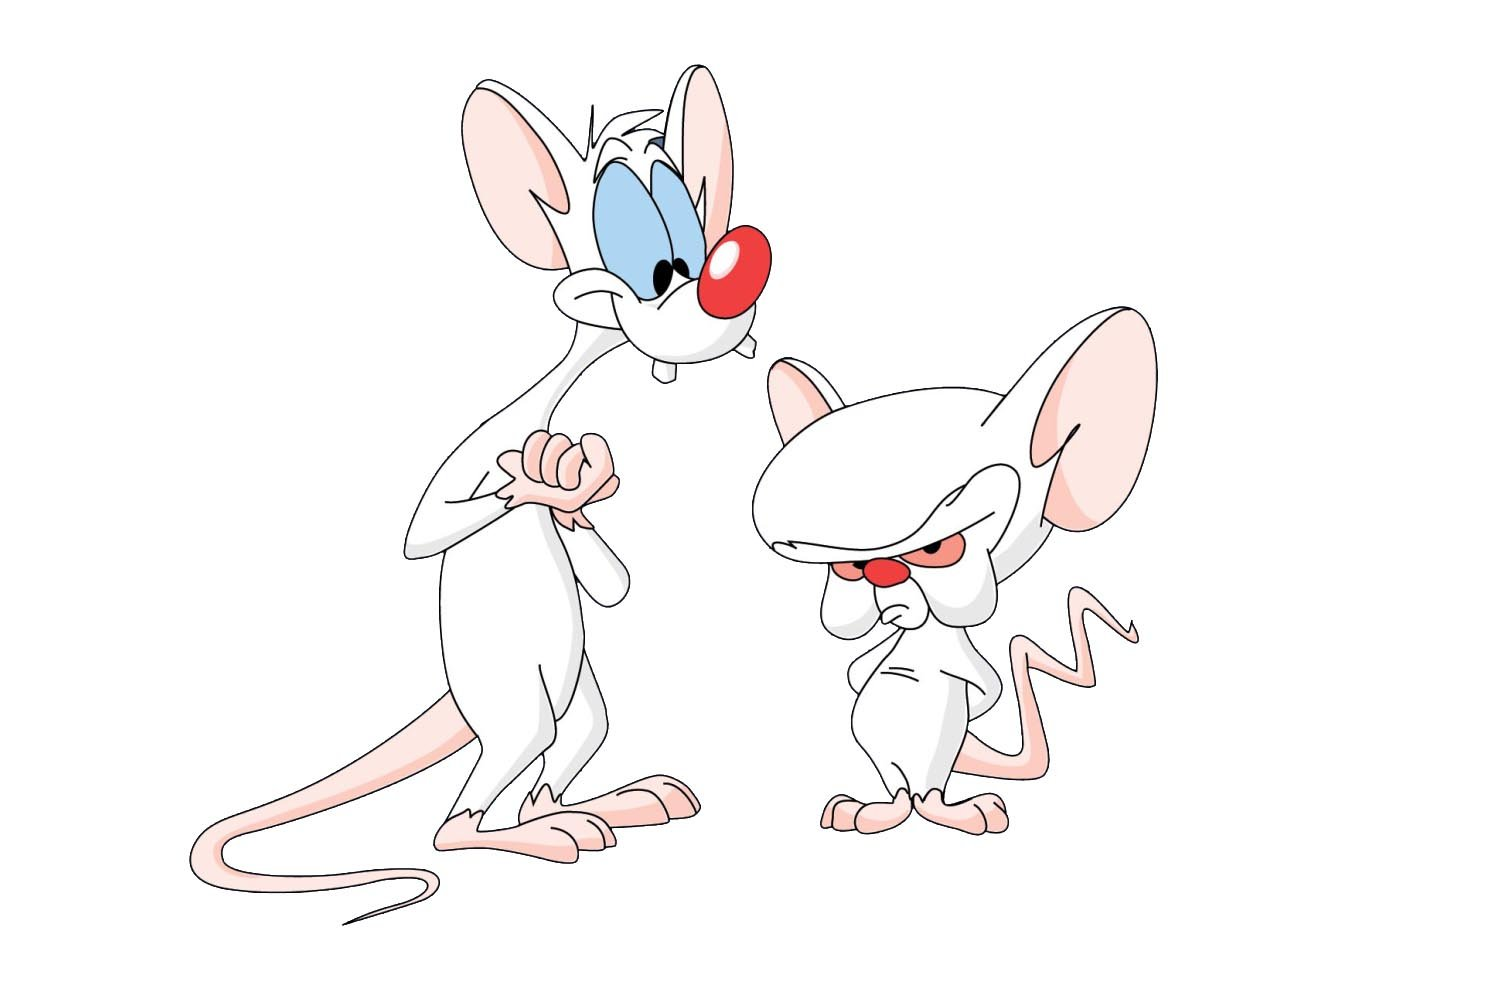cerebro: (715, 289, 1233, 873)
pink: (153, 15, 779, 959)
